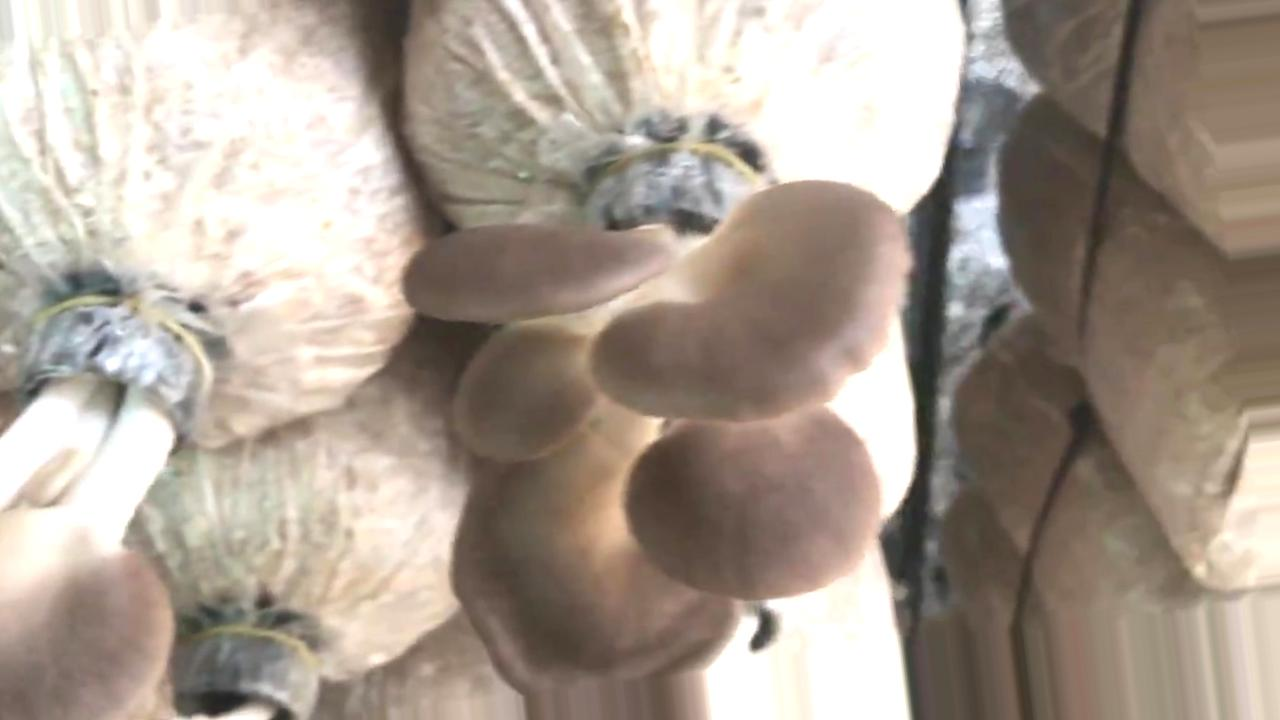nam: (404, 152, 907, 720), (4, 296, 224, 720)
